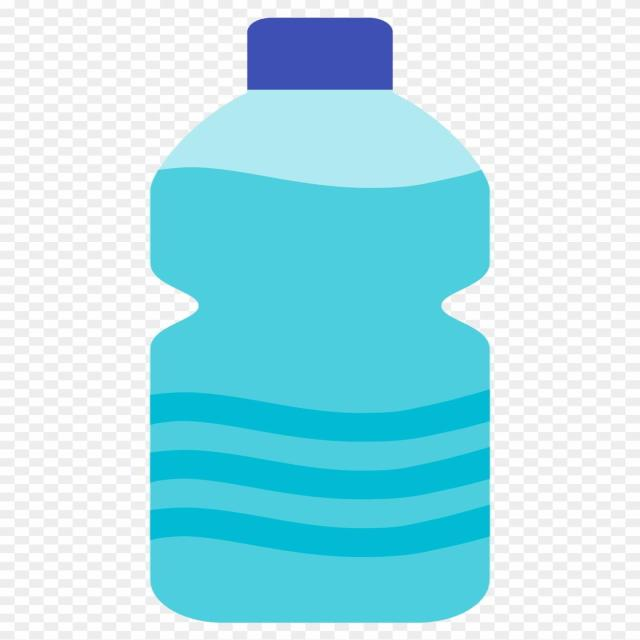bottle: (140, 0, 515, 627)
